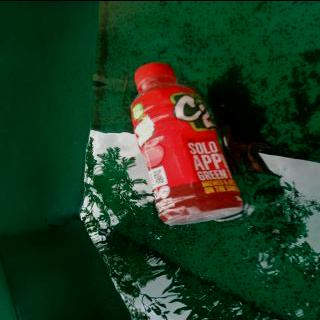bottle: (128, 61, 244, 225)
